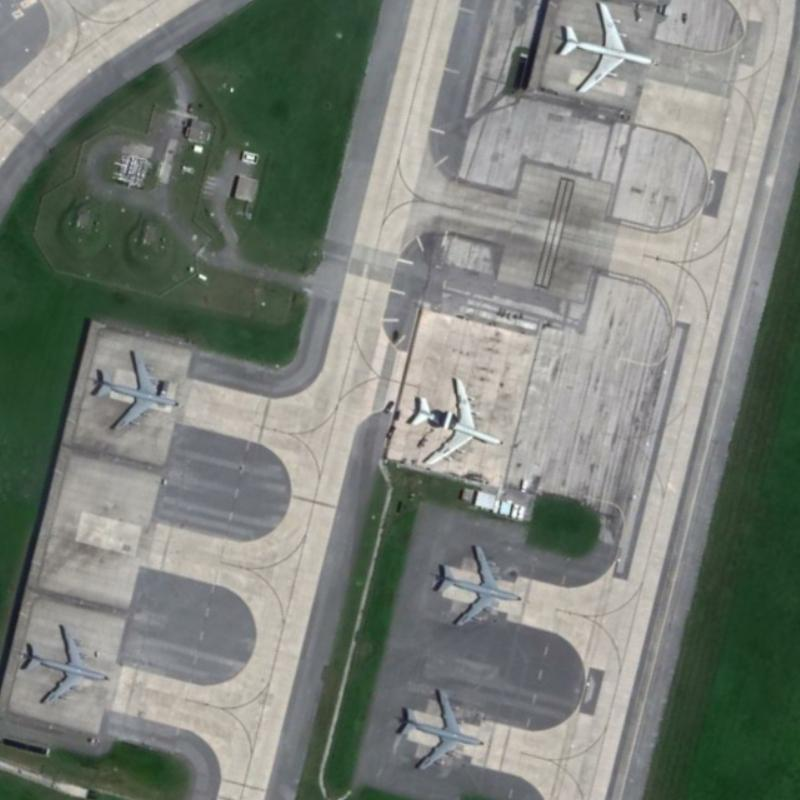A11: (547, 0, 661, 96)
A14: (426, 536, 525, 632), (84, 343, 184, 438), (14, 618, 114, 712), (388, 683, 487, 776)
A7: (402, 371, 503, 471)
